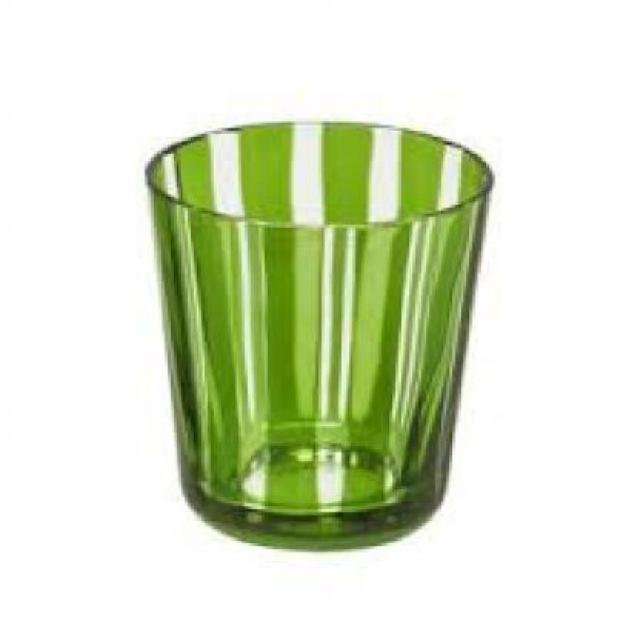GLASS: (142, 119, 496, 547)
